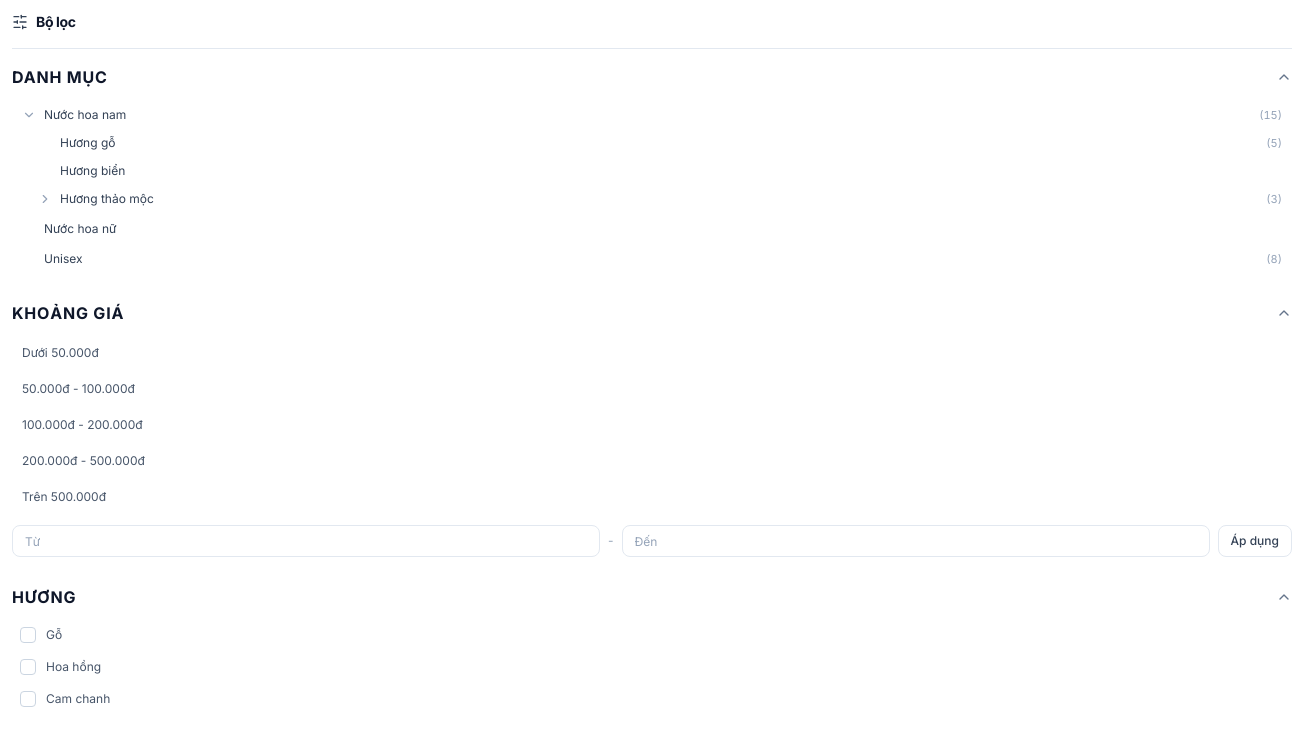
Test: FilterSidebar › Price presets › handles clicking each price preset and updates inputs
Click the button "Dưới 50.000đ": (60, 352) [12,337,1292,369]
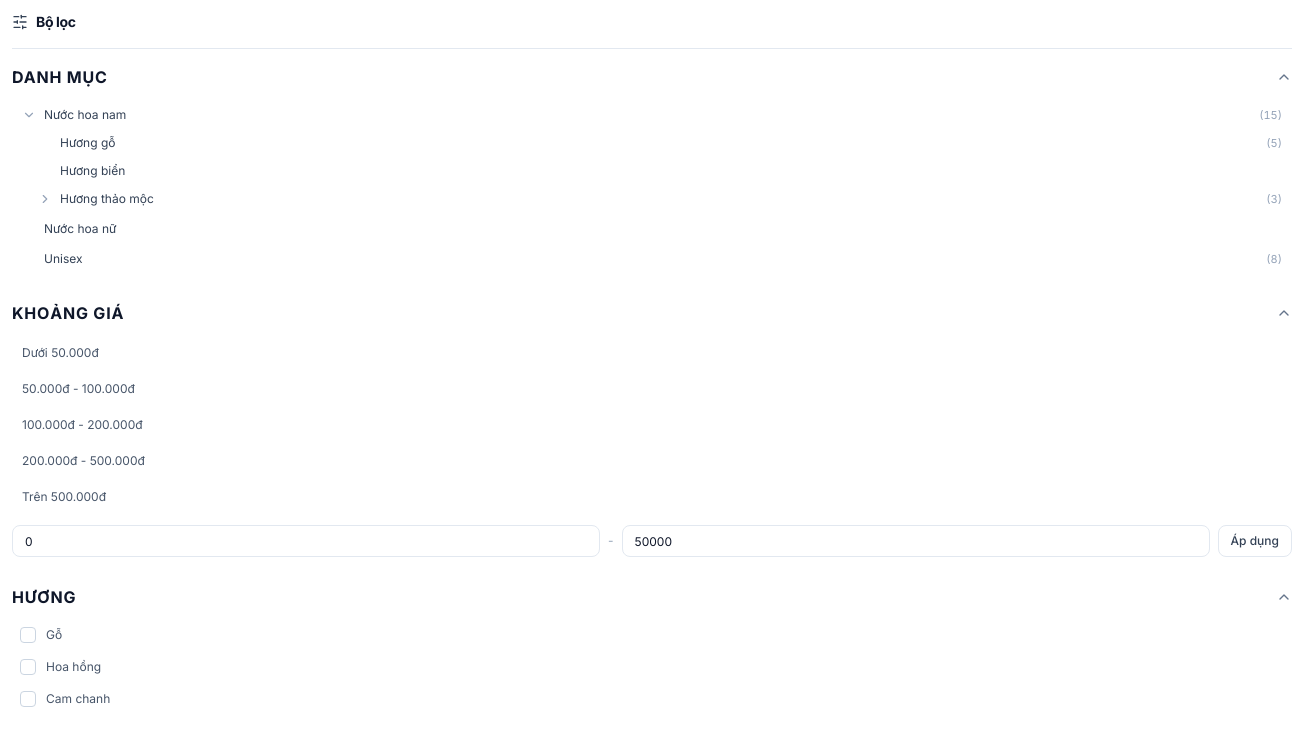
Expected: the 1st number field with placeholder "Từ" holds "0", [12,525,600,557]
Expected: the 2nd number field with placeholder "Đến" holds "50000", [622,525,1210,557]
Click the button "50.000đ - 100.000đ": (78, 388) [12,373,1292,405]
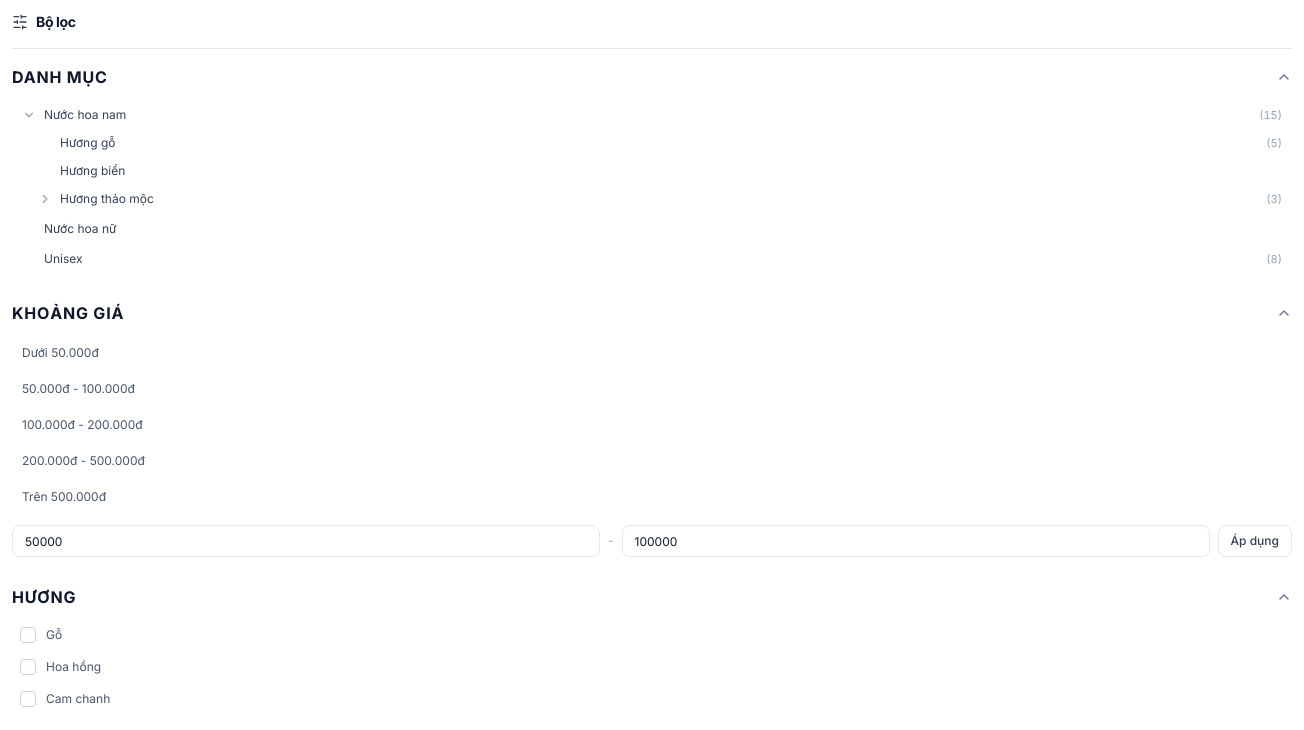
Expected: the 1st number field with placeholder "Từ" holds "50000", [12,525,600,557]
Expected: the 2nd number field with placeholder "Đến" holds "100000", [622,525,1210,557]
Click the button "100.000đ - 200.000đ": (82, 424) [12,409,1292,441]
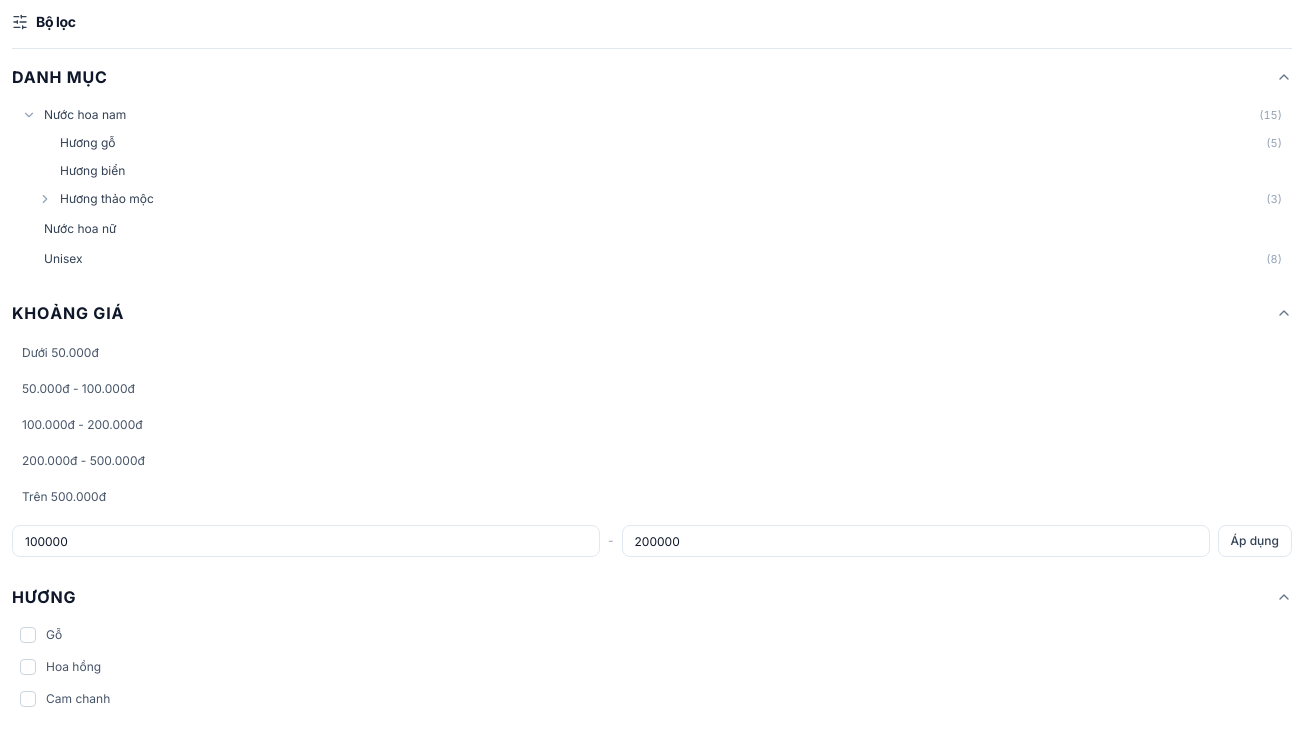
Click the button "200.000đ - 500.000đ": (83, 460) [12,445,1292,477]
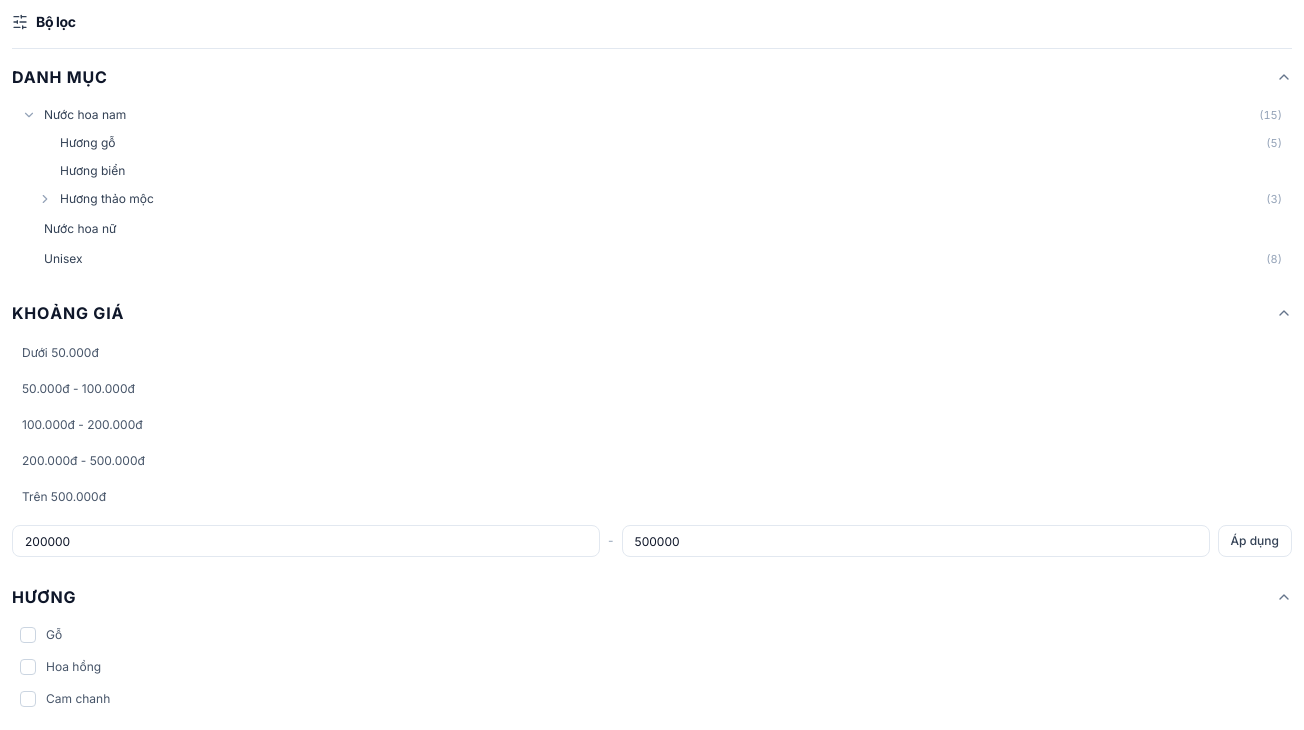
Click the button "Trên 500.000đ": (64, 496) [12,481,1292,513]
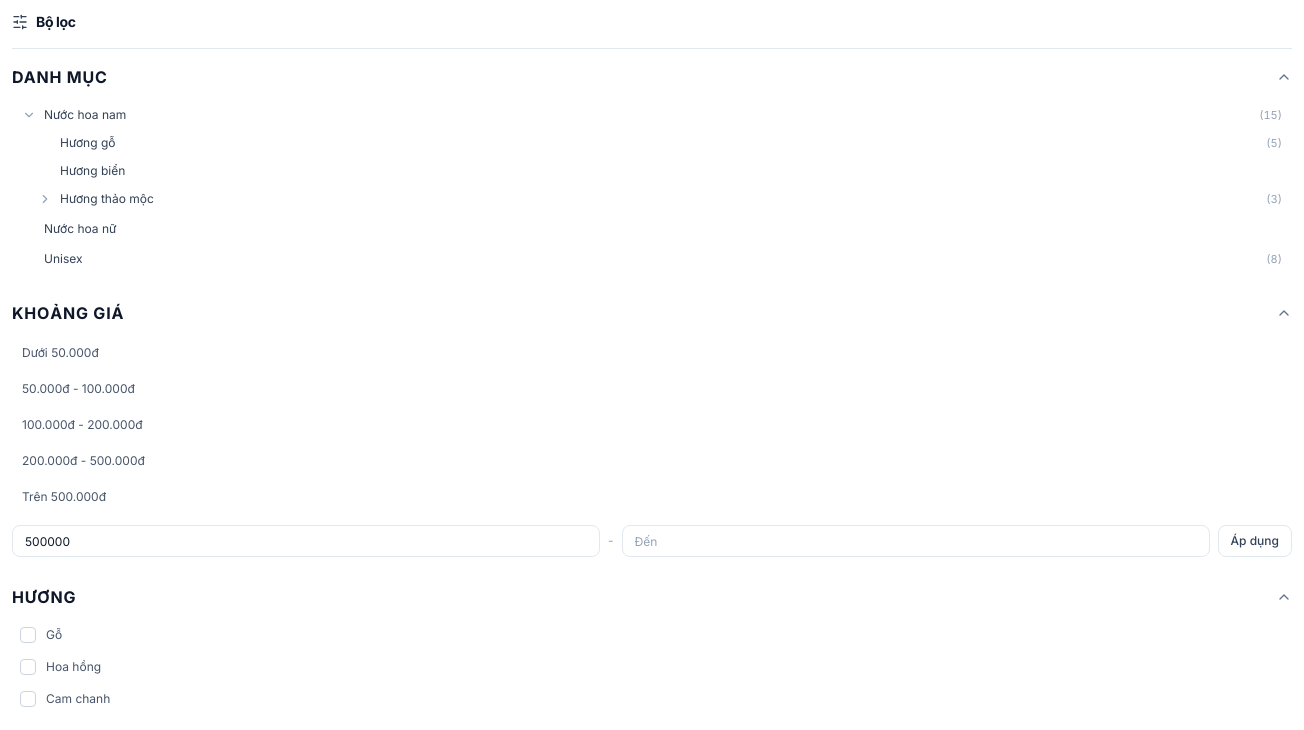
Expected: the number field with placeholder "Từ" holds "500000", [12,525,600,557]
Expected: the number field with placeholder "Đến" is not empty, [622,525,1210,557]
